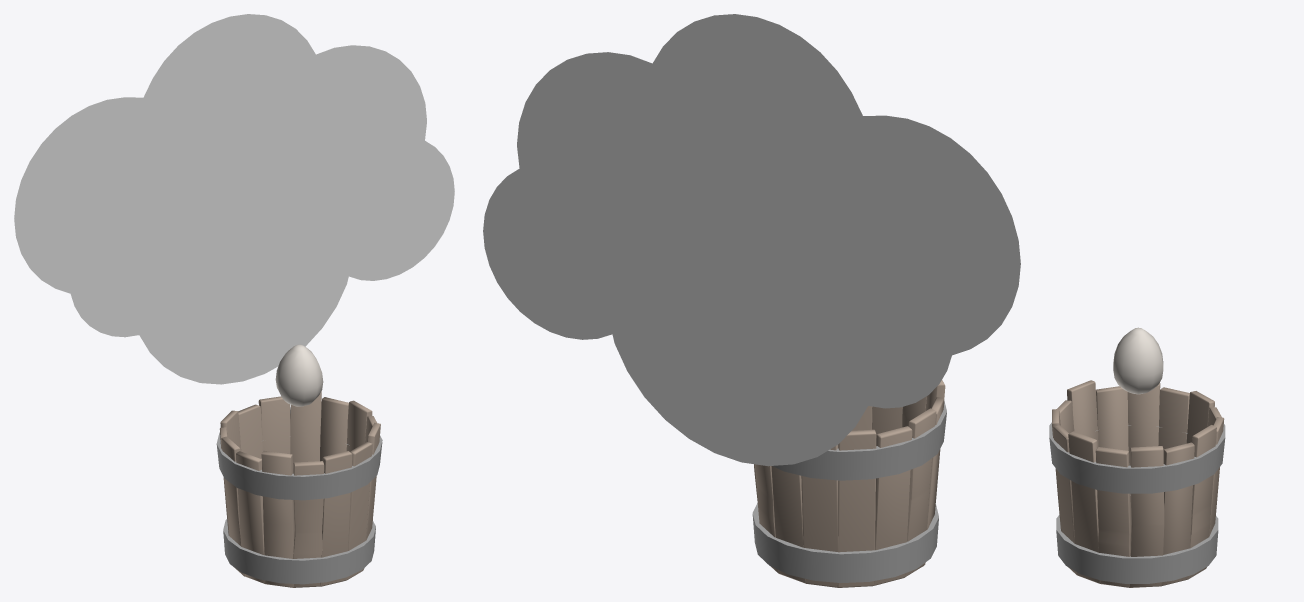
File: Bucket Game.fbx
3 renders of one model, left to right at view 1: azimuth 30°, elevation 25°; view 2: azimuth 150°, elevation 25°; view 3: azimuth 270°, elevation 25°, orthographic. The views are drawn at different scales.
Parts seen in each view (by area): view 1: Cloud, Bucket, Egg; view 2: Cloud, Bucket; view 3: Bucket, Egg.
Boxes of the visible parts, box(x1,y1,x2,y2) form: Cloud: box(14, 14, 454, 384); Bucket: box(216, 391, 382, 587); Egg: box(275, 344, 323, 406); Cloud: box(483, 14, 1020, 466); Bucket: box(752, 380, 946, 587); Bucket: box(1049, 380, 1225, 587); Egg: box(1113, 327, 1163, 394).
Bounding box in the file's own units: 8.11 × 8.62 × 3.57.
